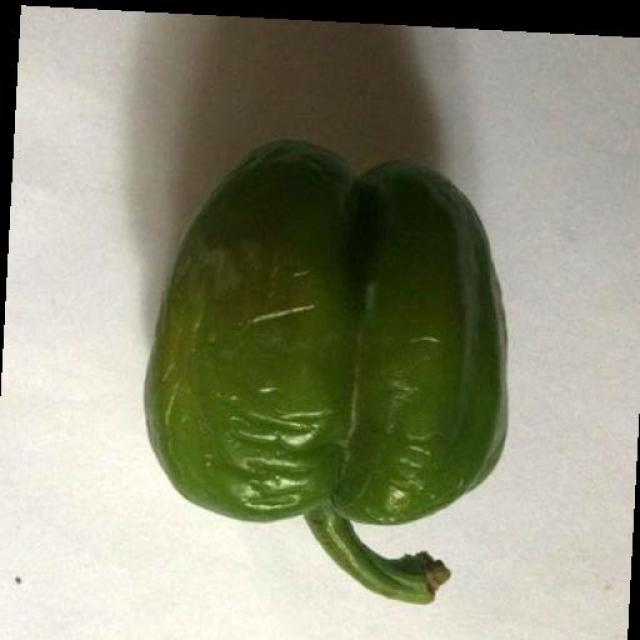Stale_Capsicum: (129, 111, 545, 603)
